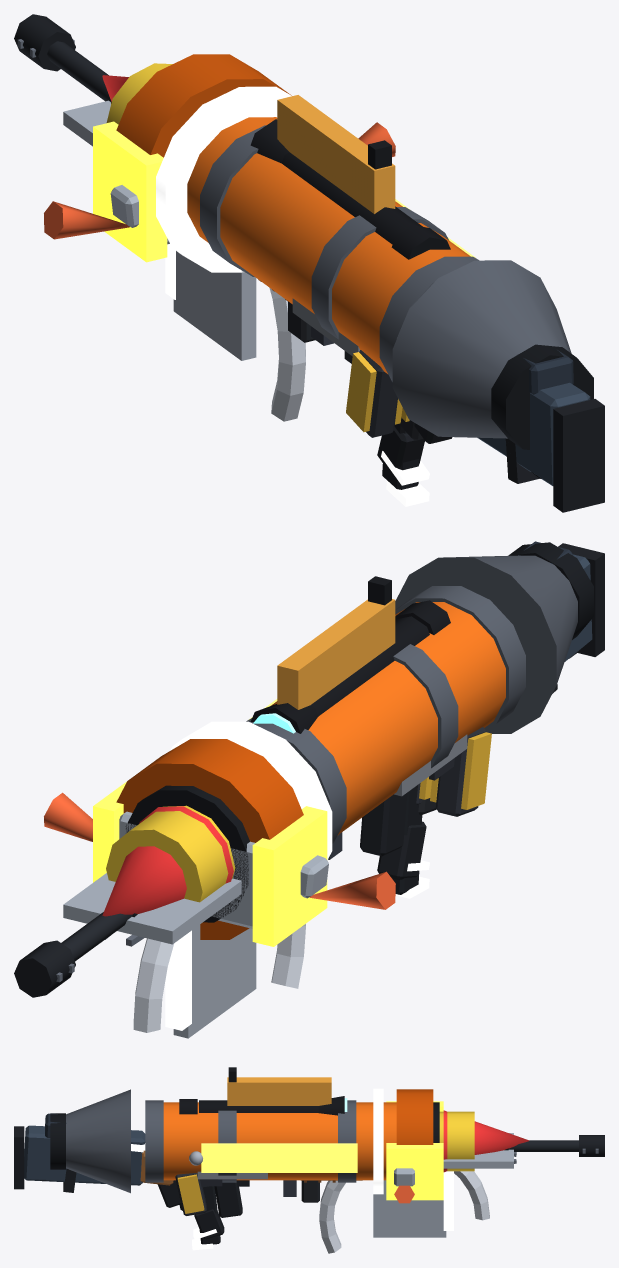
Rendered from weapons.glb.
3 views of the same model, one above another, from view 1: azimuth 30°, elevation 25°; view 2: azimuth 150°, elevation 25°; view 3: azimuth 270°, elevation 25° (orthographic). The views are drawn at different scales.
Parts seen in each view (by area): view 1: w_rocket_59606c, w_rocket_ff7a1a, w_rocket_rarity, w_rocket_d85a08, w_sniper_1b1e24, w_rocket_ffb040, p_hammer_ffc83a, p_axe_b0bac8, w_rocket_15181d, w_sniper_14161b, w_sniper_3b4a5c, p_sickle_dfe6f2 (+13 smaller); view 2: w_rocket_59606c, w_rocket_ff7a1a, w_rocket_d85a08, p_hammer_ffc83a, w_rocket_ffb040, w_rocket_15181d, w_rocket_ffd83a, p_axe_b0bac8, w_rocket_ff3a3a, p_shovel_b0bac8, w_rocket_rarity, w_sniper_14161b (+12 smaller); view 3: w_rocket_ff7a1a, w_rocket_59606c, w_rocket_ffd24a, w_rocket_ffb040, p_axe_b0bac8, p_hammer_ffc83a, w_sniper_3b4a5c, w_rocket_d85a08, p_sickle_dfe6f2, w_ar_1b1e24, w_sniper_14161b, w_rocket_ffd83a (+14 smaller).
Part boxes in pixels (x1,y1,x2,y2): w_rocket_59606c: [200, 125, 571, 438]; w_rocket_ff7a1a: [187, 117, 470, 373]; w_rocket_rarity: [156, 86, 291, 272]; w_rocket_d85a08: [116, 54, 291, 157]; w_sniper_1b1e24: [14, 14, 604, 512]; w_rocket_ffb040: [277, 95, 395, 213]; p_hammer_ffc83a: [93, 121, 167, 262]; p_axe_b0bac8: [173, 251, 256, 360]; w_rocket_15181d: [368, 140, 593, 449]; w_sniper_14161b: [250, 119, 450, 259]; w_sniper_3b4a5c: [477, 382, 590, 485]; p_sickle_dfe6f2: [269, 288, 305, 421]; w_rocket_59606c: [246, 555, 577, 843]; w_rocket_ff7a1a: [271, 602, 505, 834]; w_rocket_d85a08: [116, 739, 303, 939]; p_hammer_ffc83a: [93, 781, 327, 946]; w_rocket_ffb040: [277, 599, 395, 709]; w_rocket_15181d: [125, 542, 593, 922]; w_rocket_ffd83a: [106, 805, 235, 902]; p_axe_b0bac8: [173, 924, 256, 1038]; w_rocket_ff3a3a: [102, 806, 233, 916]; p_shovel_b0bac8: [63, 873, 241, 944]; w_rocket_rarity: [170, 721, 332, 859]; w_sniper_14161b: [250, 600, 450, 733]; w_rocket_ff7a1a: [163, 1102, 396, 1180]; w_rocket_59606c: [66, 1089, 356, 1193]; w_rocket_ffd24a: [201, 1143, 357, 1172]; w_rocket_ffb040: [227, 1077, 331, 1105]; p_axe_b0bac8: [373, 1180, 446, 1237]; p_hammer_ffc83a: [386, 1101, 443, 1200]; w_sniper_3b4a5c: [24, 1125, 145, 1185]; w_rocket_d85a08: [396, 1089, 433, 1144]; p_sickle_dfe6f2: [319, 1171, 489, 1253]; w_ar_1b1e24: [157, 1148, 508, 1239]; w_sniper_14161b: [179, 1096, 344, 1115]; w_rocket_ffd83a: [439, 1111, 474, 1171].
Size of the model in its own units: 0.8115 by 0.7738 by 2.27.
